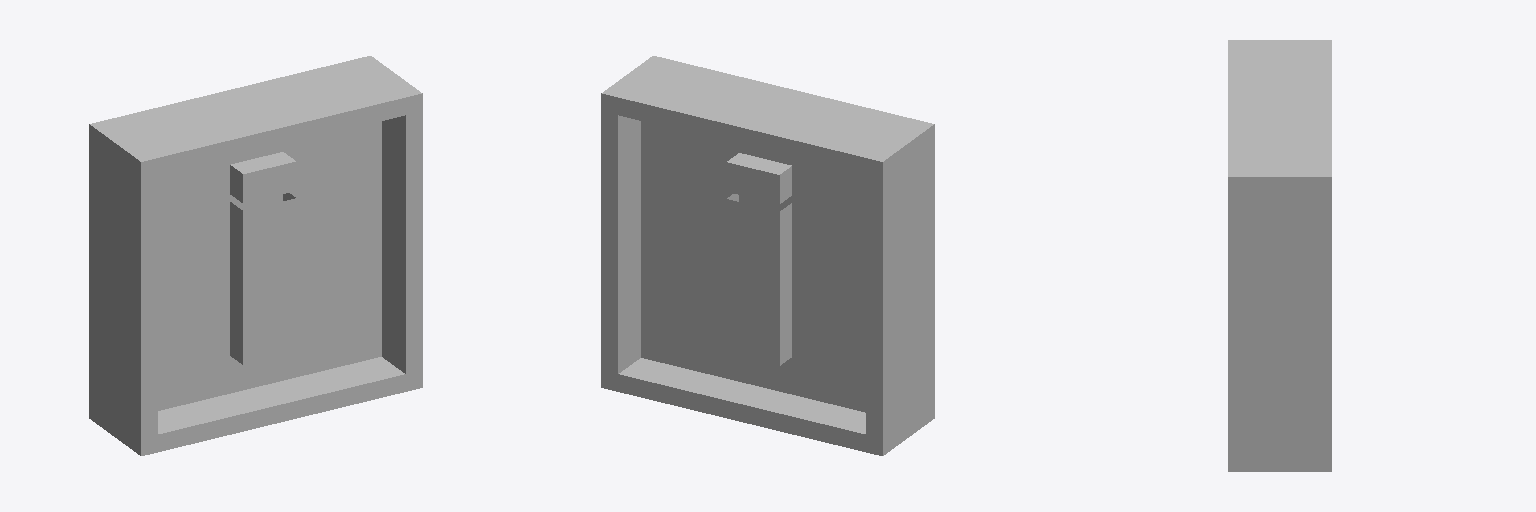
The model's file is info.obj.
3 views of the same model, side by side, from view 1: azimuth 30°, elevation 25°; view 2: azimuth 150°, elevation 25°; view 3: azimuth 270°, elevation 25° (orthographic).
Parts seen in each view (by area): view 1: Cube; view 2: Cube; view 3: Cube.
Boxes of the visible parts, x1=… form: Cube: x1=89, y1=56, x2=422, y2=455; Cube: x1=601, y1=56, x2=934, y2=455; Cube: x1=1228, y1=40, x2=1331, y2=471.
Bounding box in the file's own units: 2 × 2 × 0.638.